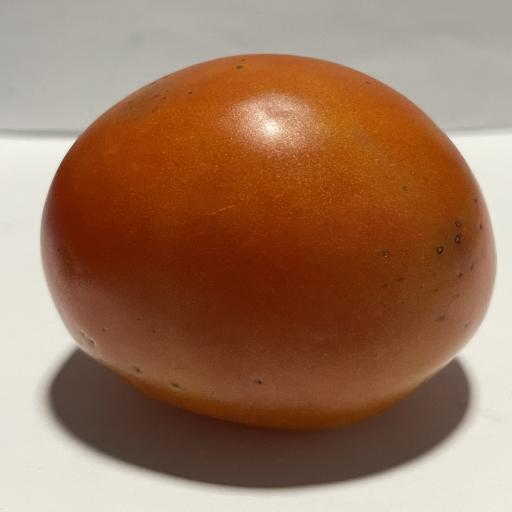ripe: (41, 54, 495, 429)
